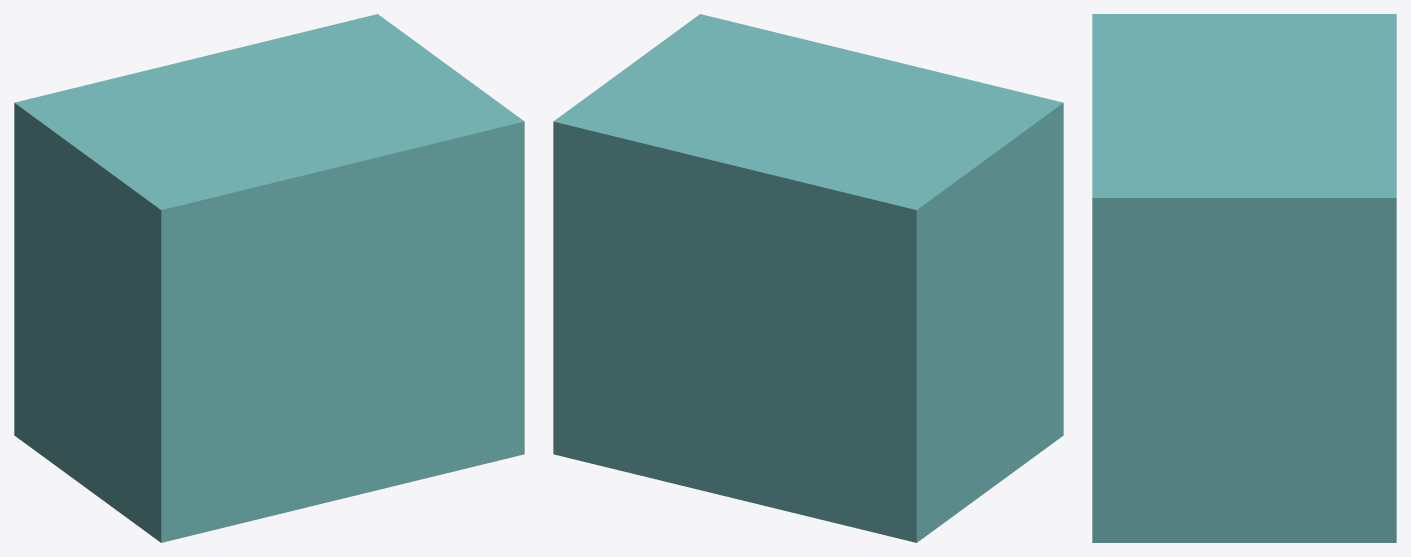
File: induck-hoodie-v1.glb
3 renders of one model, left to right at view 1: azimuth 30°, elevation 25°; view 2: azimuth 150°, elevation 25°; view 3: azimuth 270°, elevation 25°, orthographic. The views are drawn at different scales.
Visible parts, largest first — view 1: qa_top_5, qa_top_0, qa_top_4, qa_top_1, qa_top_3, qa_top_2; view 2: qa_top_5, qa_top_0, qa_top_4, qa_top_1, qa_top_3, qa_top_2; view 3: qa_top_5, qa_top_0, qa_top_1, qa_top_2, qa_top_3, qa_top_4.
Boxes of the visible parts, x1,y1,x2,y2 form: qa_top_5: (14, 14, 524, 265); qa_top_0: (14, 380, 524, 542); qa_top_4: (14, 158, 524, 320); qa_top_1: (14, 325, 524, 487); qa_top_3: (14, 214, 524, 376); qa_top_2: (14, 269, 524, 431); qa_top_5: (553, 14, 1063, 265); qa_top_0: (553, 380, 1063, 542); qa_top_4: (553, 158, 1063, 320); qa_top_1: (553, 325, 1063, 487); qa_top_3: (553, 214, 1063, 376); qa_top_2: (553, 269, 1063, 431); qa_top_5: (1092, 14, 1396, 255); qa_top_0: (1092, 485, 1396, 542); qa_top_1: (1092, 428, 1396, 485); qa_top_2: (1092, 370, 1396, 427); qa_top_3: (1092, 313, 1396, 370); qa_top_4: (1092, 255, 1396, 312).
Bounding box in the file's own units: 0.4 × 0.35 × 0.28.
